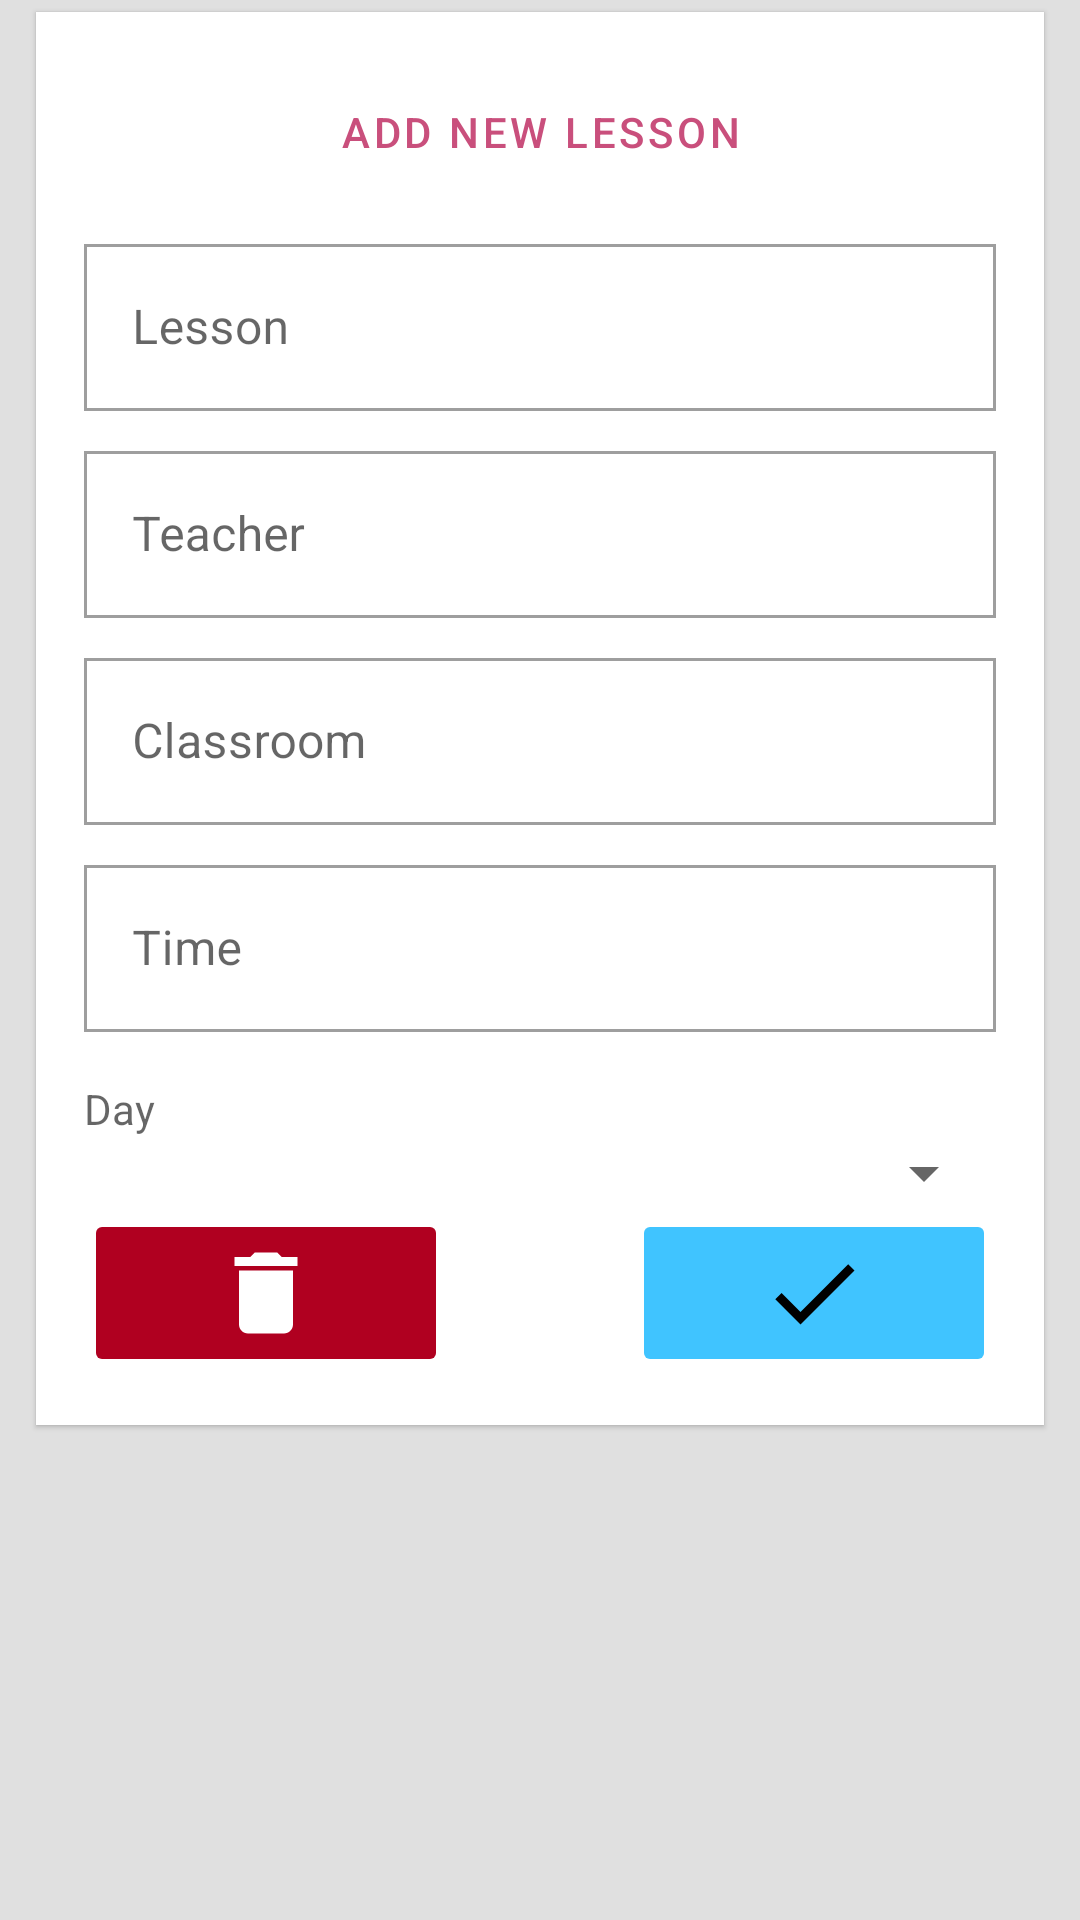

Icons on this 1080 × 1920 Android screen, each with its box as rect(x1, y1, x2, y2):
delete: rect(96, 1227, 436, 1359)
done: rect(644, 1227, 984, 1359)
